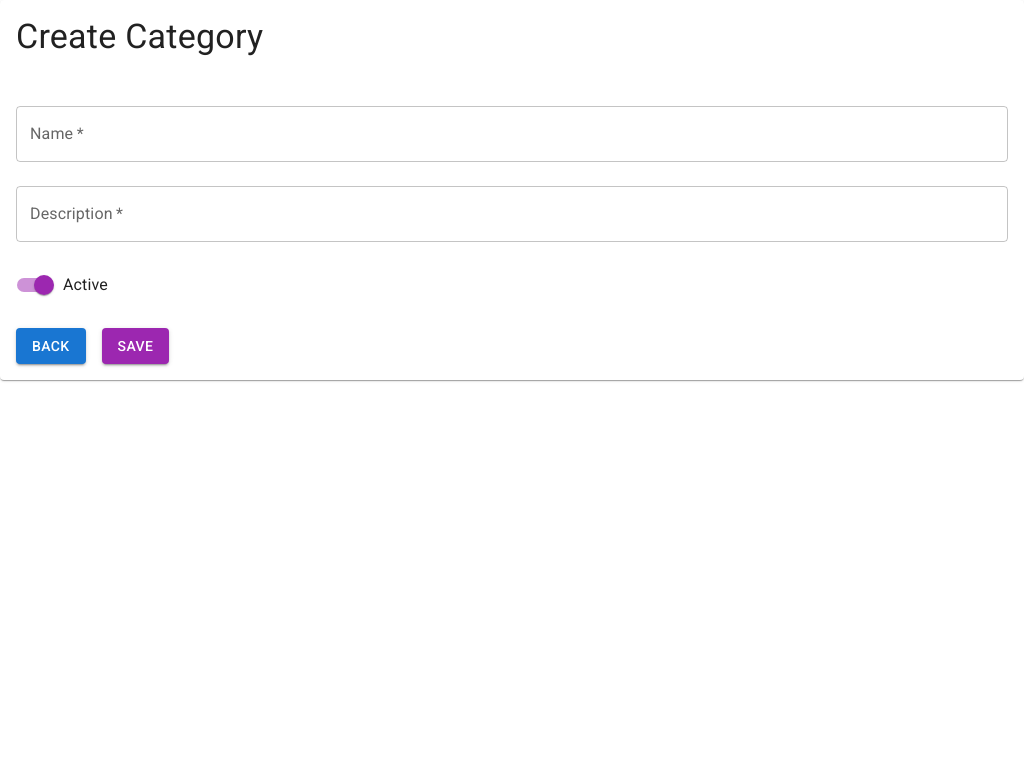
Scenario: CreateCategory › should handle submit error
Step 1. Type "test" into the field with test id "name" → (512, 134), box [16,106,1008,162]
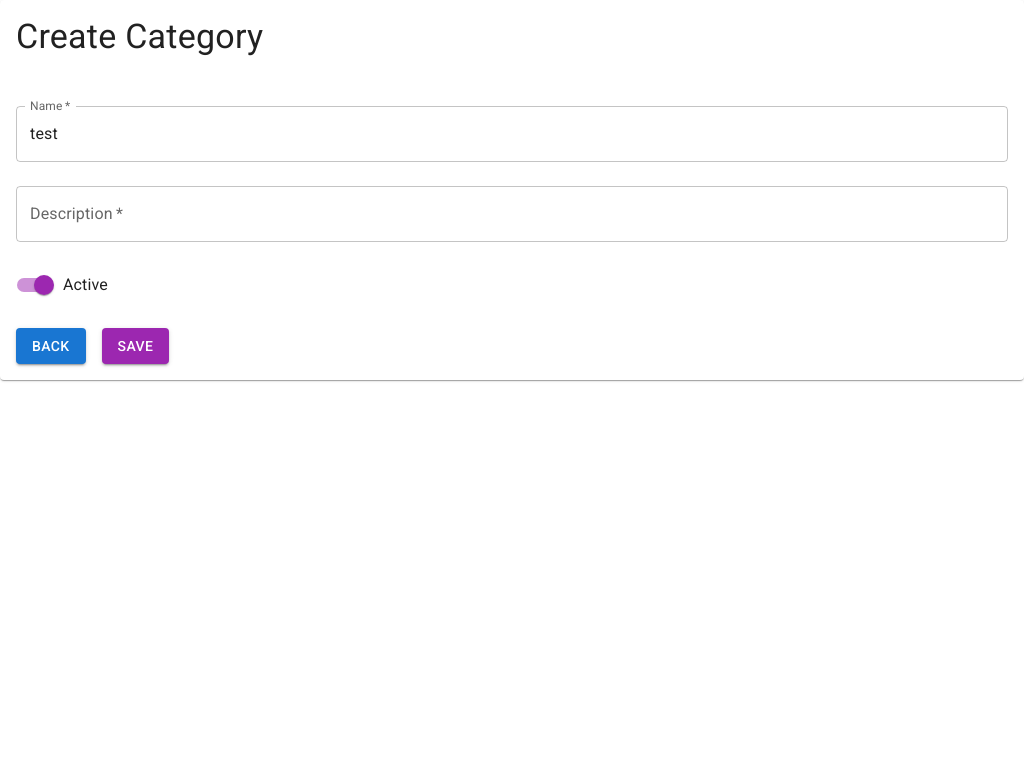
Step 2. Type "test desc" into the field with test id "description" → (512, 214), box [16,186,1008,242]
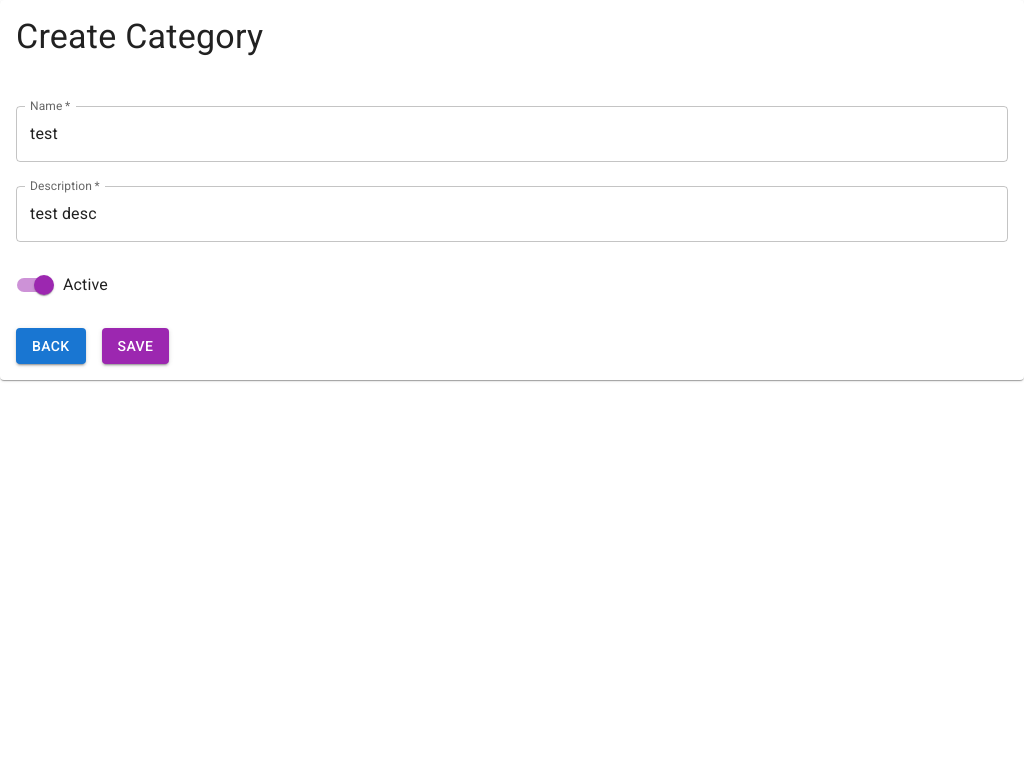
Step 3. Click the element with test id "is_active" → (44, 285), box [34,275,54,295]
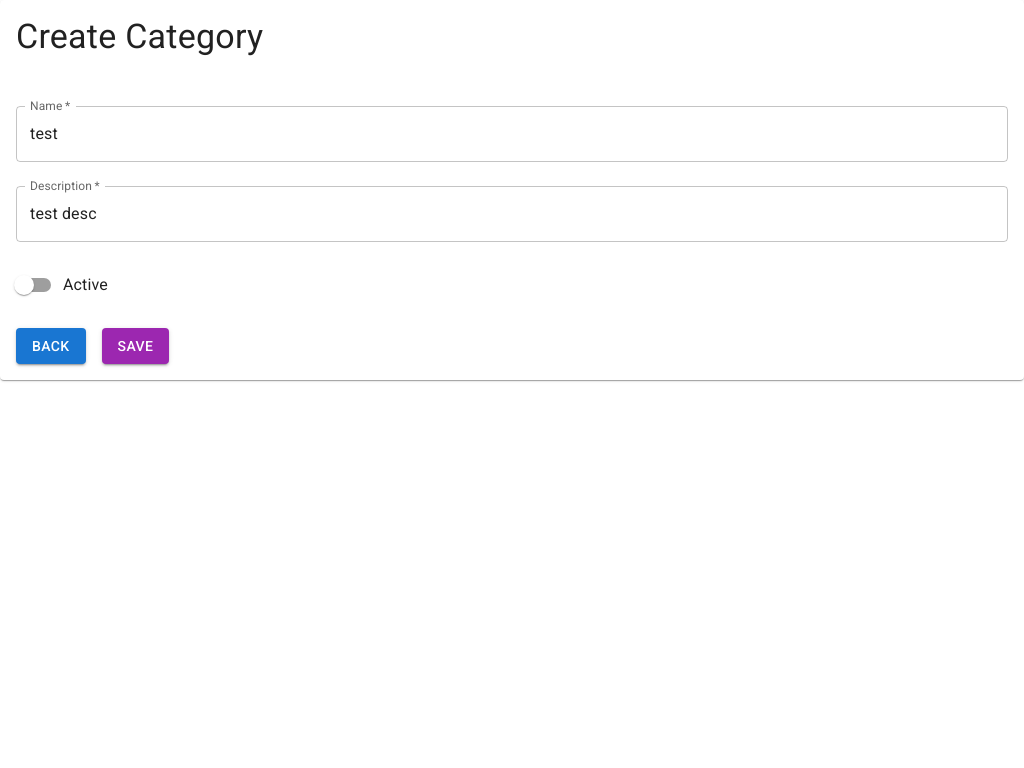
Step 4. Click the button "Save" → (136, 346), box [102,328,169,364]
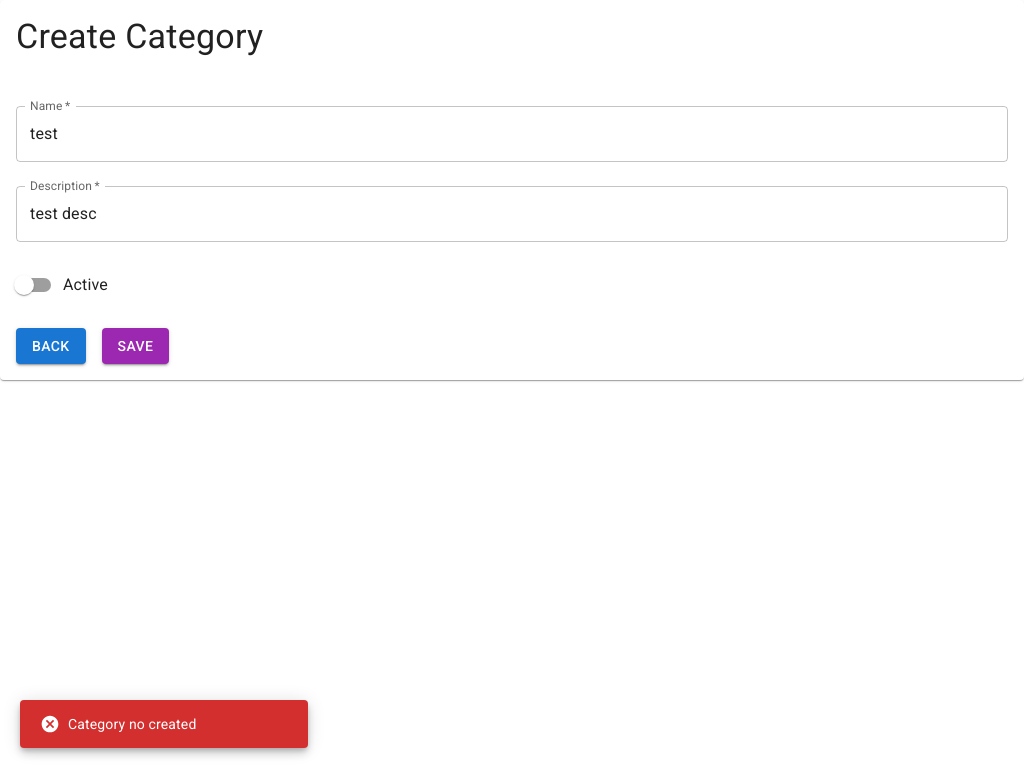
expect the text "Category no created" is shown: met, box [40,714,196,734]
